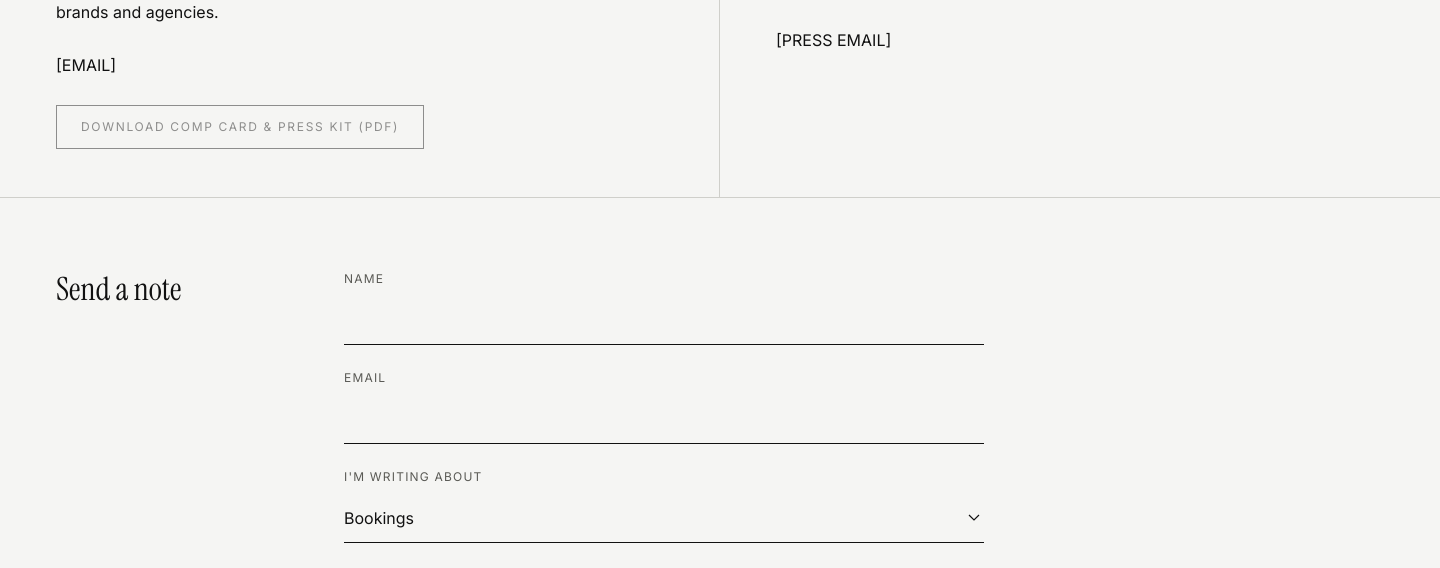
Scenario: contact form › explains when sending is not set up, keeping the message
(page scrolled)
Type "Ada Obi" into the field labelled "Name". click: (664, 320)
box: [344,296,984,345]
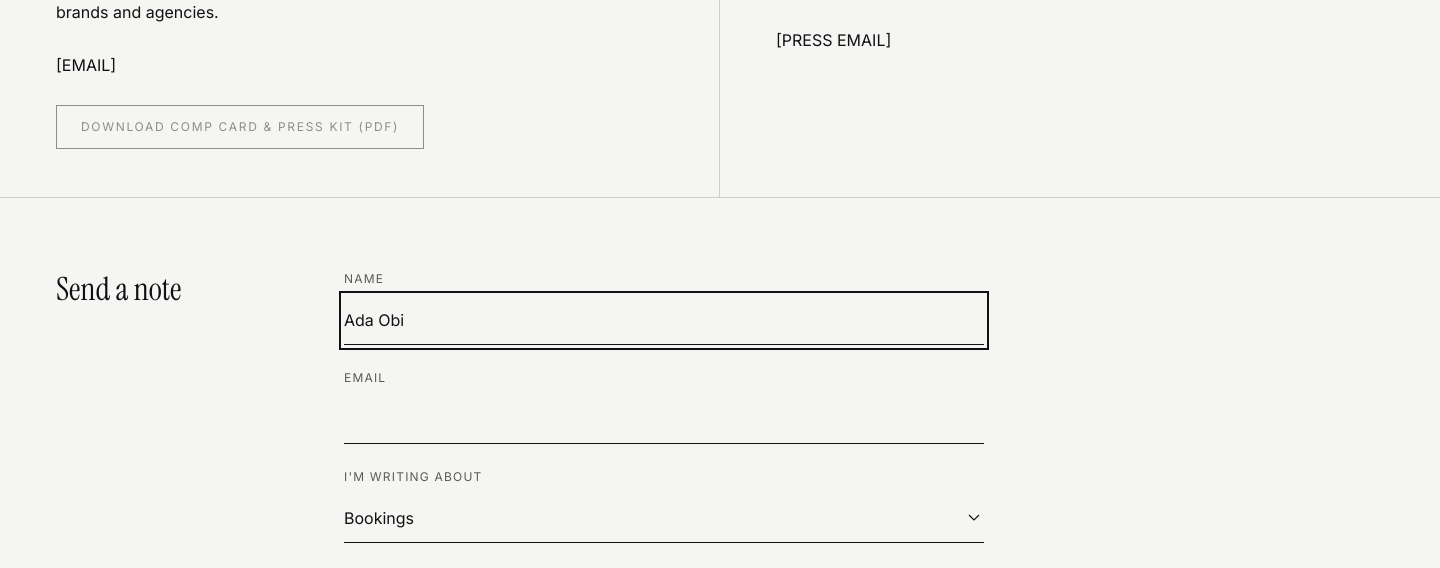
Type "ada@studio.test" into the field labelled "Email". click: (664, 419)
box: [344,395,984,444]
(page scrolled)
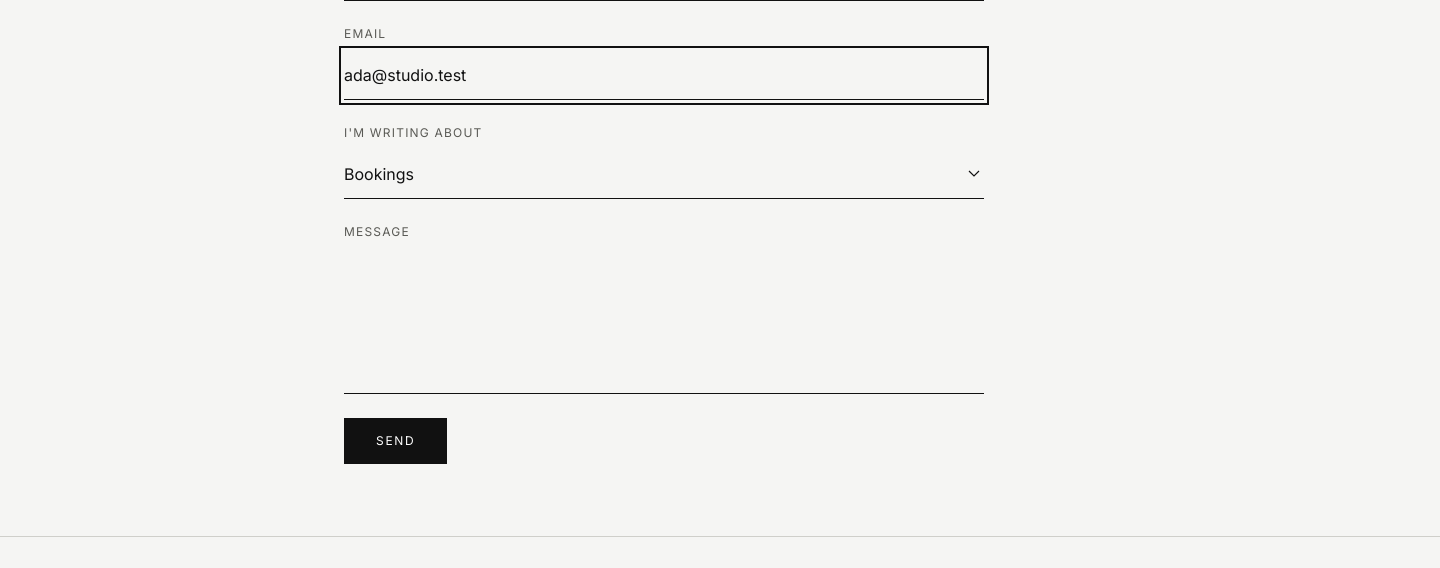
Type "Hello" into the text box labelled "Message". click: (664, 321)
box: [344,249,984,394]
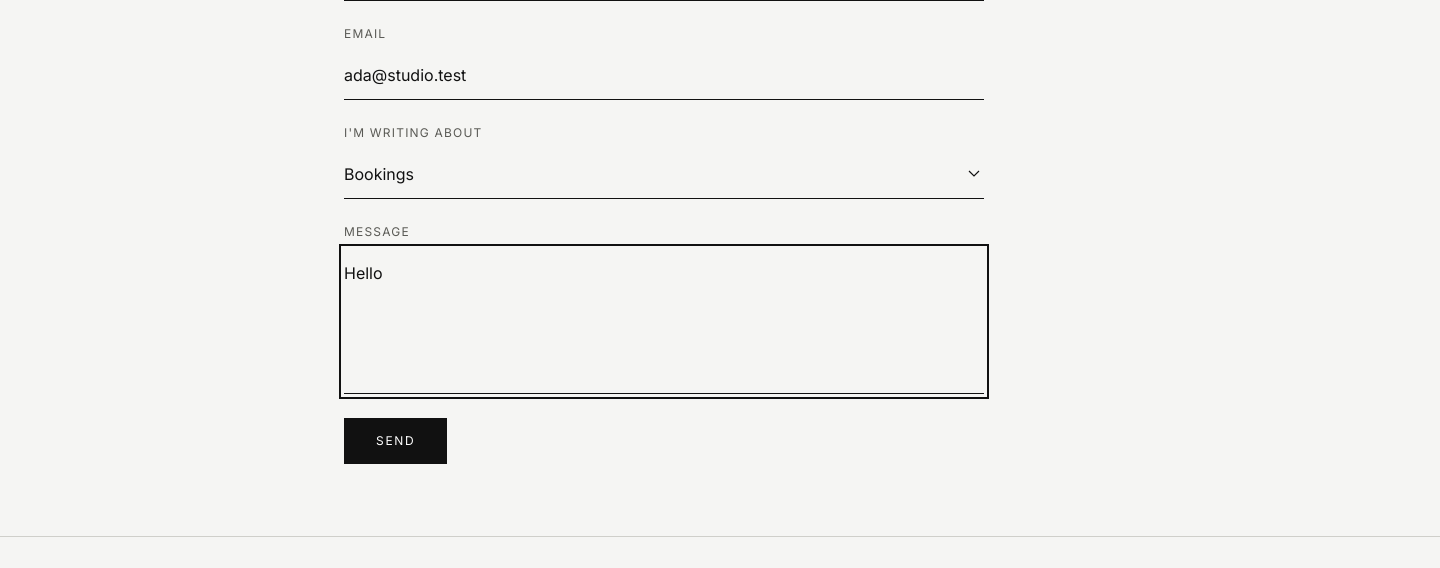
Click the button "Send". click: (396, 441)
box: [344,418,447,464]
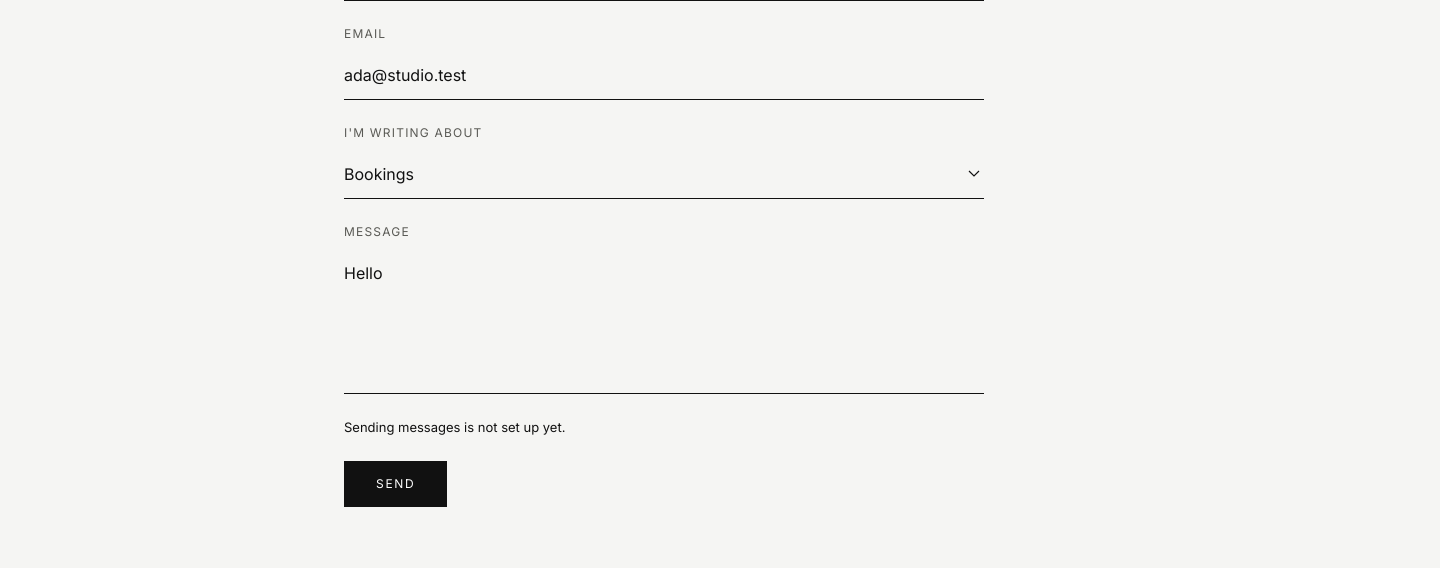
expect the message reads "Sending messages is not set up yet.": met, box [344,419,565,435]
